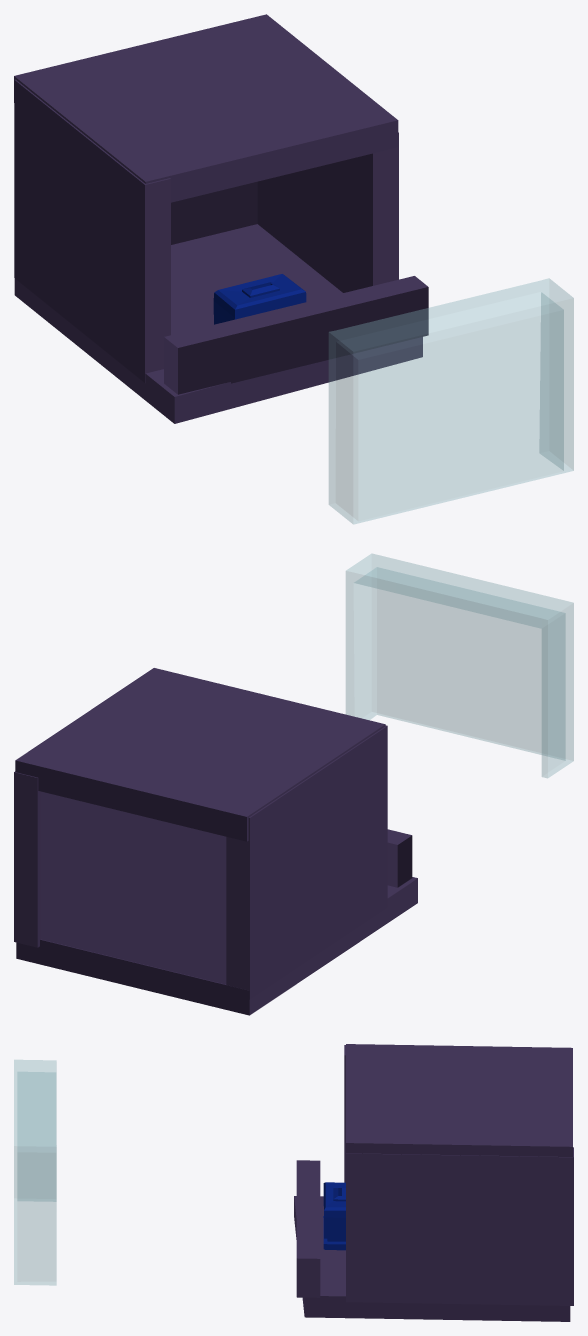
Rendered from glass.FBX.
The picture shows the model from 3 angles, top to bottom: view 1: azimuth 30°, elevation 25°; view 2: azimuth 150°, elevation 25°; view 3: azimuth 270°, elevation 25°; orthographic projection. The views are drawn at different scales.
Visible parts, largest first — view 1: group_628921701; view 2: group_628921701; view 3: group_628921701.
Part boxes in pixels (<box>): group_628921701: <box>14,14,573,524</box>; group_628921701: <box>14,553,573,1015</box>; group_628921701: <box>14,1044,573,1321</box>.
Bounding box in the file's own units: 406 × 317 × 920.
